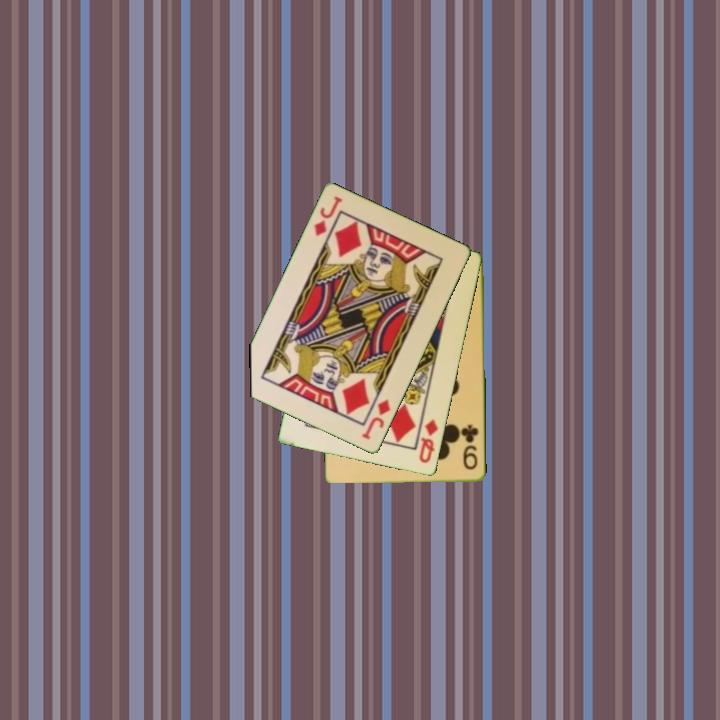9c: (460, 421, 481, 473)
Jd: (359, 396, 394, 443), (310, 193, 345, 240)
Qd: (416, 415, 441, 466)
